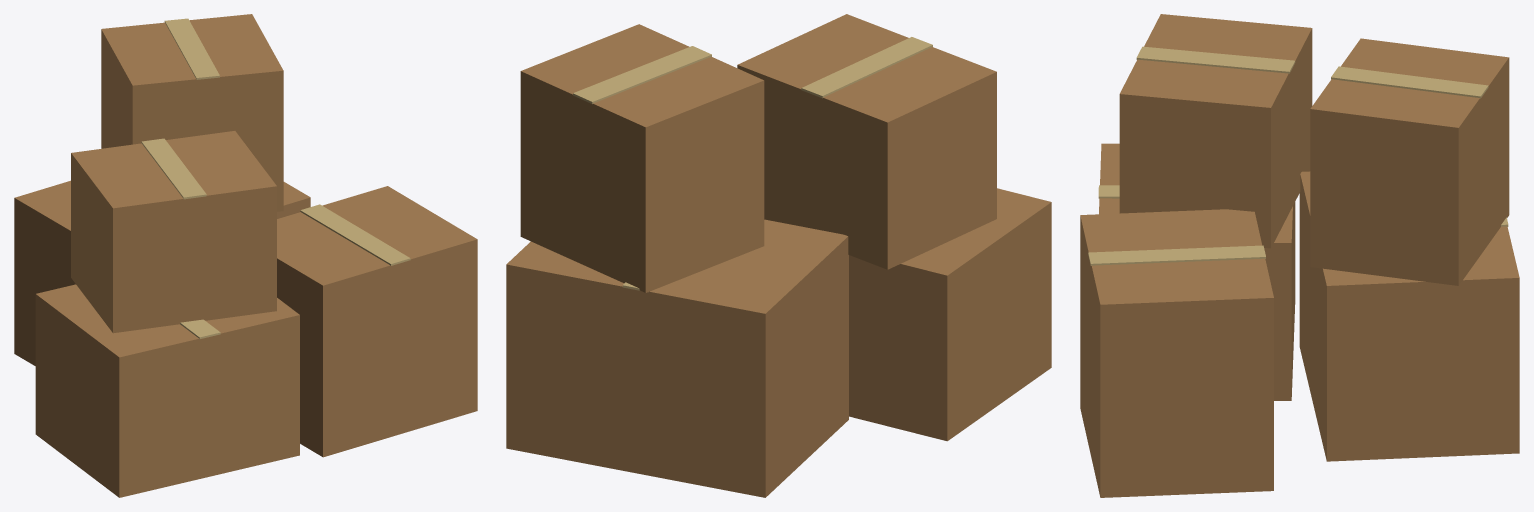
The model's file is box_pile.glb.
3 views of the same model, side by side, from view 1: azimuth 30°, elevation 25°; view 2: azimuth 150°, elevation 25°; view 3: azimuth 270°, elevation 25° (orthographic). The views are drawn at different scales.
Parts seen in each view (by area): view 1: box_pile; view 2: box_pile; view 3: box_pile.
Part boxes in pixels (bbox=[...]): box_pile: bbox=[14, 14, 477, 497]; box_pile: bbox=[506, 14, 1051, 497]; box_pile: bbox=[1080, 14, 1519, 497].
Size of the model in its own units: 1.2 by 0.955 by 1.13.
